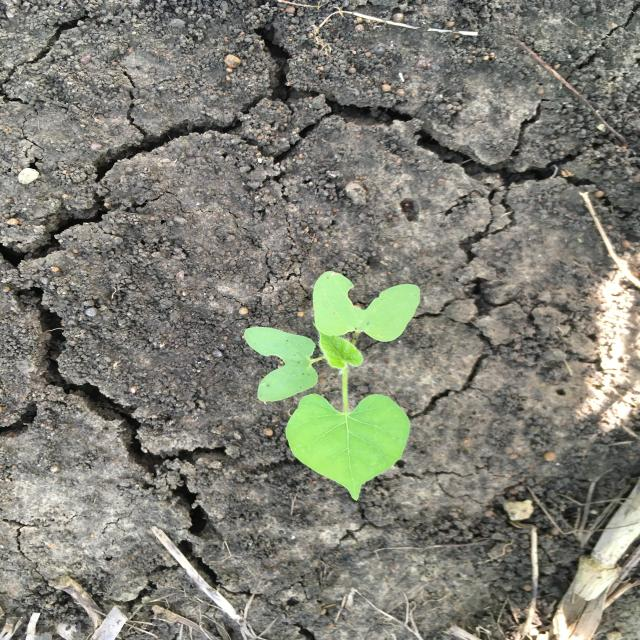MorningGlory: (243, 270, 424, 503)
